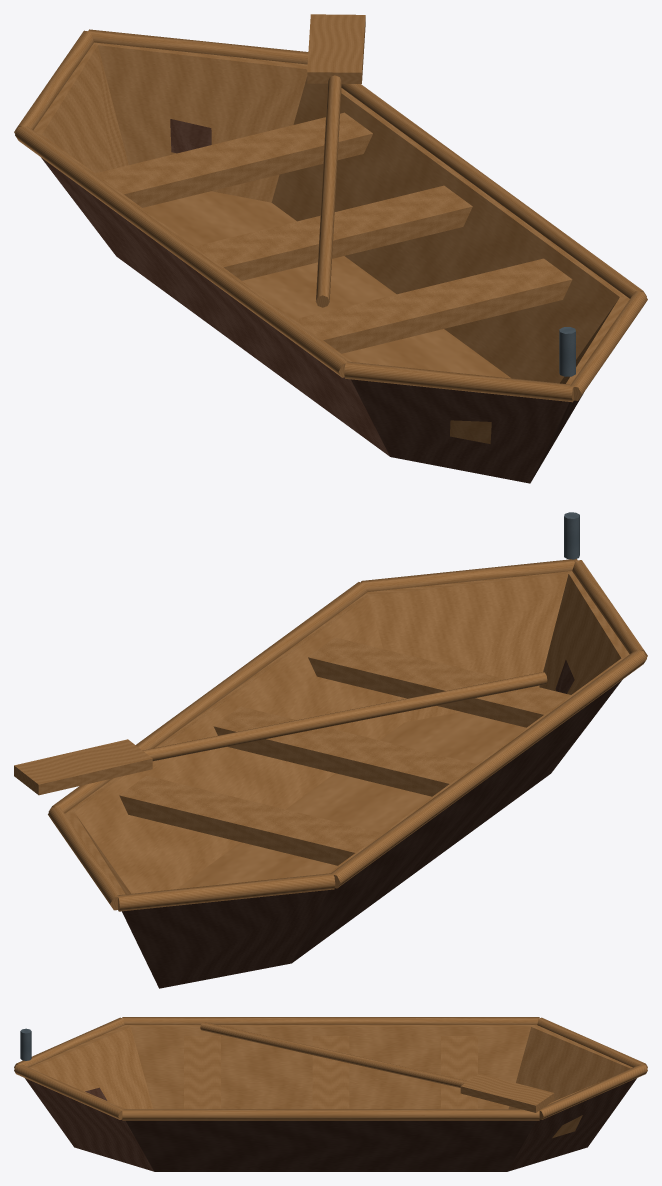
The model's file is reed_ferry.glb.
3 views of the same model, one above another, from view 1: azimuth 30°, elevation 25°; view 2: azimuth 150°, elevation 25°; view 3: azimuth 270°, elevation 25° (orthographic). The views are drawn at different scales.
Visible parts, largest first — view 1: reed_ferry; view 2: reed_ferry; view 3: reed_ferry.
Part boxes in pixels (bbox=[...]): reed_ferry: bbox=[14, 14, 647, 483]; reed_ferry: bbox=[14, 512, 647, 988]; reed_ferry: bbox=[14, 1017, 647, 1171].
Size of the model in its own units: 1.61 by 0.8 by 3.95.
Materials: 3 (3 with a texture image).
